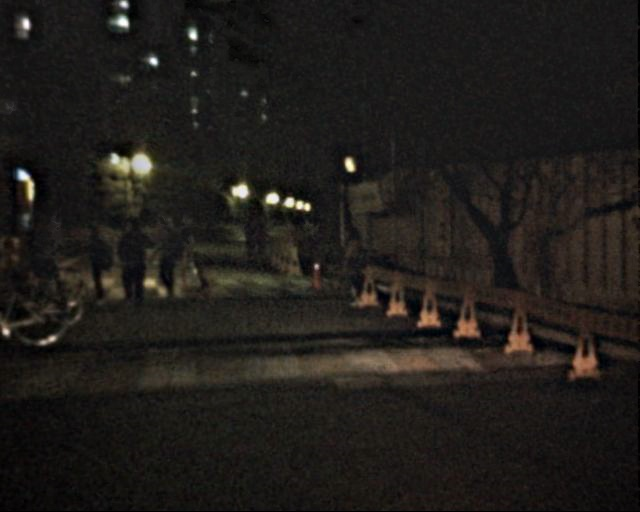person: (35, 212, 73, 304), (147, 212, 183, 300), (84, 217, 117, 297), (338, 225, 370, 304), (119, 218, 151, 296), (173, 210, 200, 276), (239, 219, 258, 265), (252, 220, 270, 263)
